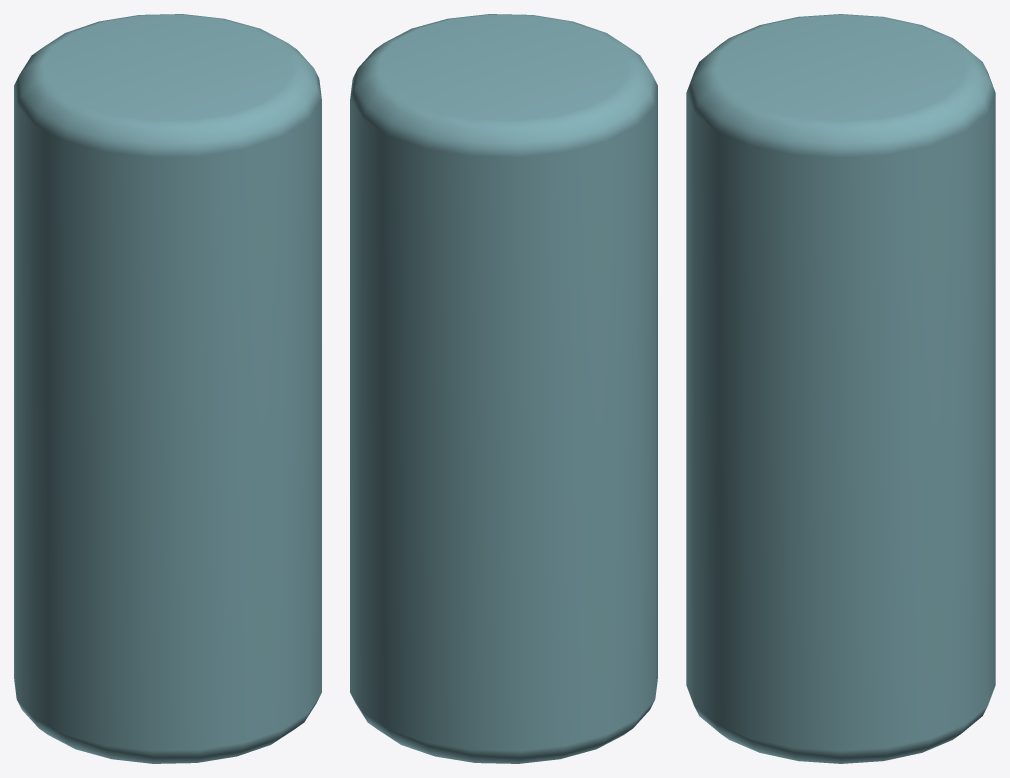
File: table_plazma.fbx
The picture shows the model from 3 angles, left to right: view 1: azimuth 30°, elevation 25°; view 2: azimuth 150°, elevation 25°; view 3: azimuth 270°, elevation 25°; orthographic projection.
Parts seen in each view (by area): view 1: table_plazma; view 2: table_plazma; view 3: table_plazma.
Part boxes in pixels (box(x1,y1,x2,y2)): table_plazma: box(14, 14, 321, 763); table_plazma: box(350, 14, 657, 763); table_plazma: box(686, 14, 995, 763).
Bounding box in the file's own units: 37.62 × 86.2 × 37.62.
